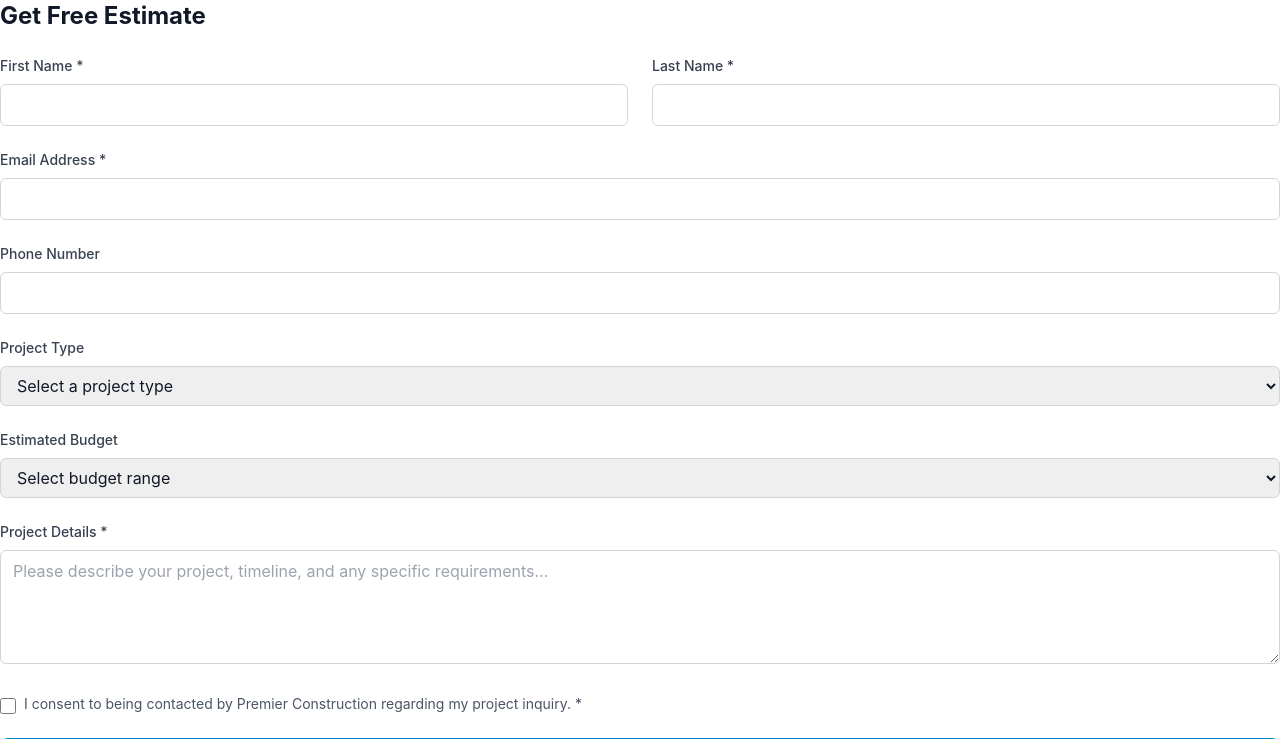
ContactForm Integration › should validate name fields
Note: Enter invalid names
Step 1. Type "A" into the field labelled "First Name *" → (314, 105), box [0,84,628,126]
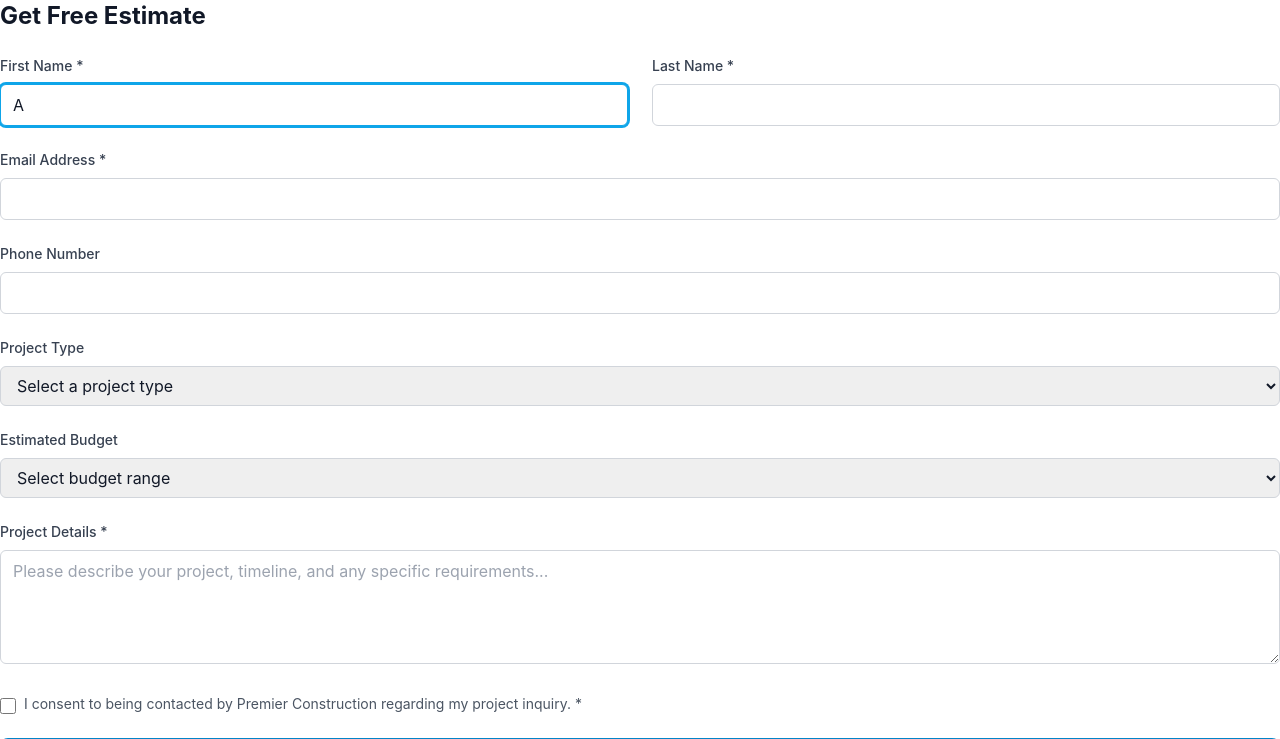
Step 2. Type "B123" into the field labelled "Last Name *" → (966, 105), box [652,84,1279,126]
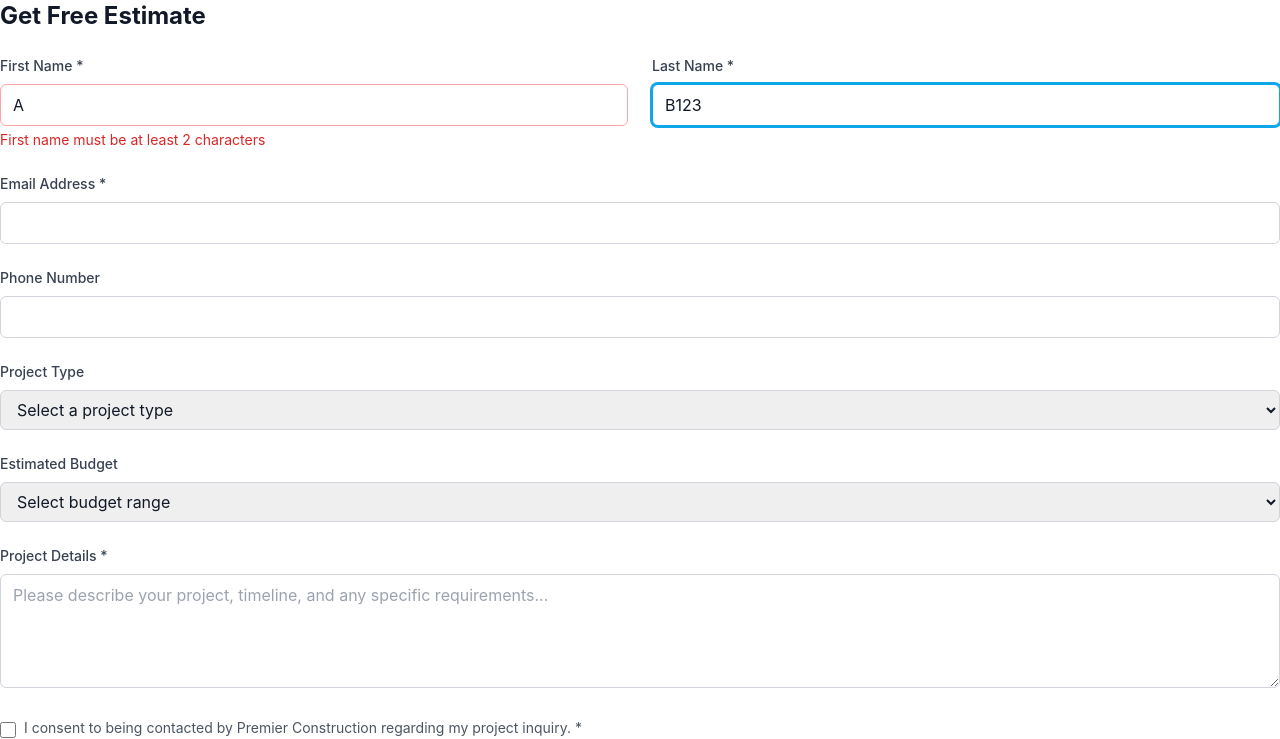
Step 3. Press Tab
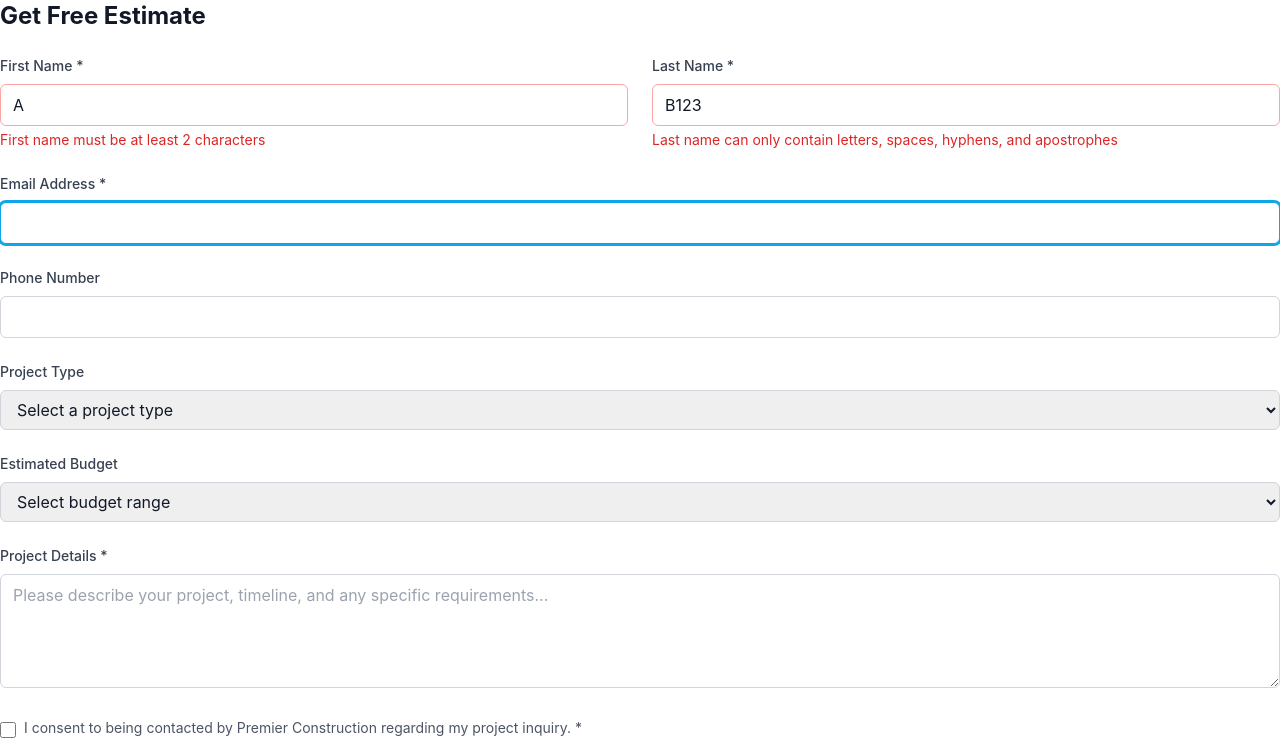
Expected: the text "First name must be at least 2 characters" is shown, [0,131,265,148]
Expected: the text "Last name can only contain letters, spaces, hyphens, and apostrophes" is shown, [652,131,1118,148]
